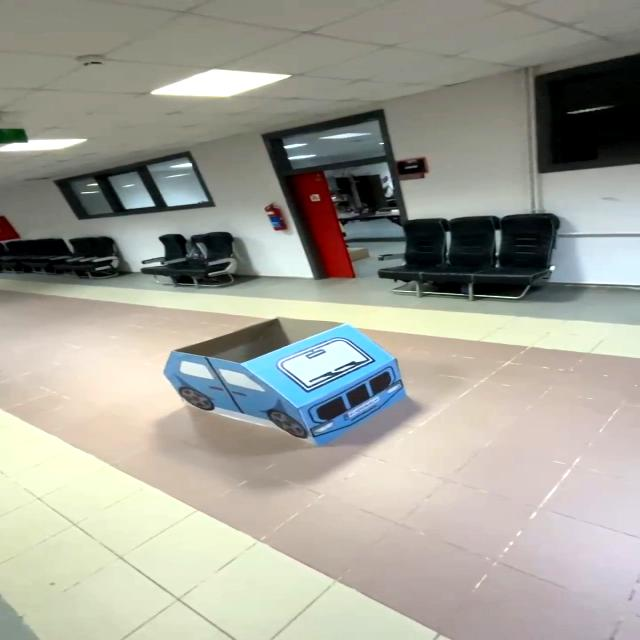blue_car: (142, 311, 427, 460)
